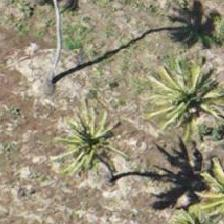coconut_tree: (47, 97, 137, 187), (136, 51, 223, 141)
